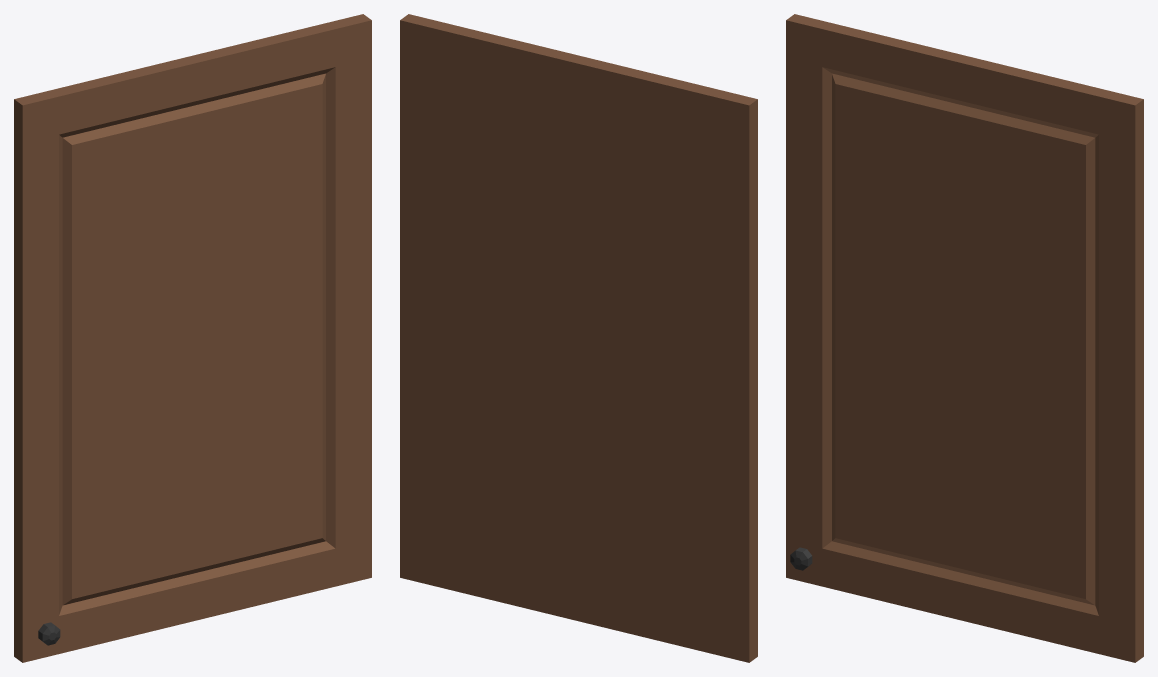
File: Door3_C2_11.fbx
3 renders of one model, left to right at view 1: azimuth 30°, elevation 25°; view 2: azimuth 150°, elevation 25°; view 3: azimuth 330°, elevation 25°, orthographic.
Visible parts, largest first — view 1: Door3_C2_11; view 2: Door3_C2_11; view 3: Door3_C2_11.
Part boxes in pixels (x1=…): Door3_C2_11: x1=14, y1=14, x2=371, y2=662; Door3_C2_11: x1=400, y1=14, x2=757, y2=662; Door3_C2_11: x1=786, y1=14, x2=1143, y2=662.
Bounding box in the file's own units: 59 × 90 × 5.19.
